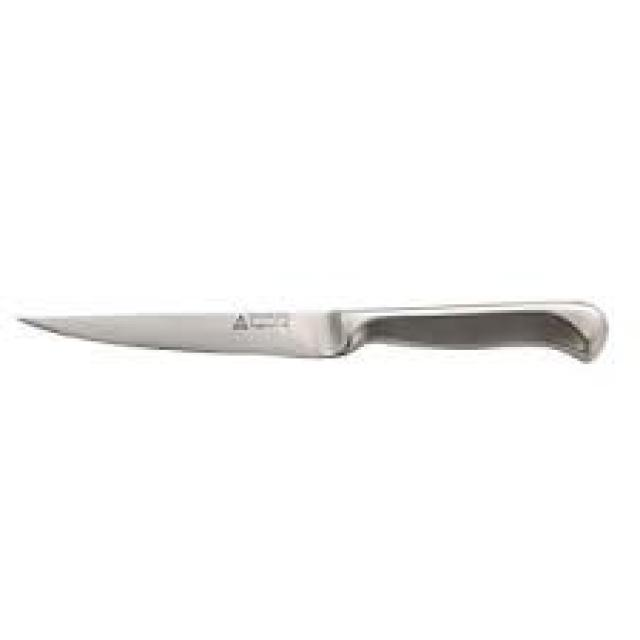Knife: (14, 299, 609, 361)
